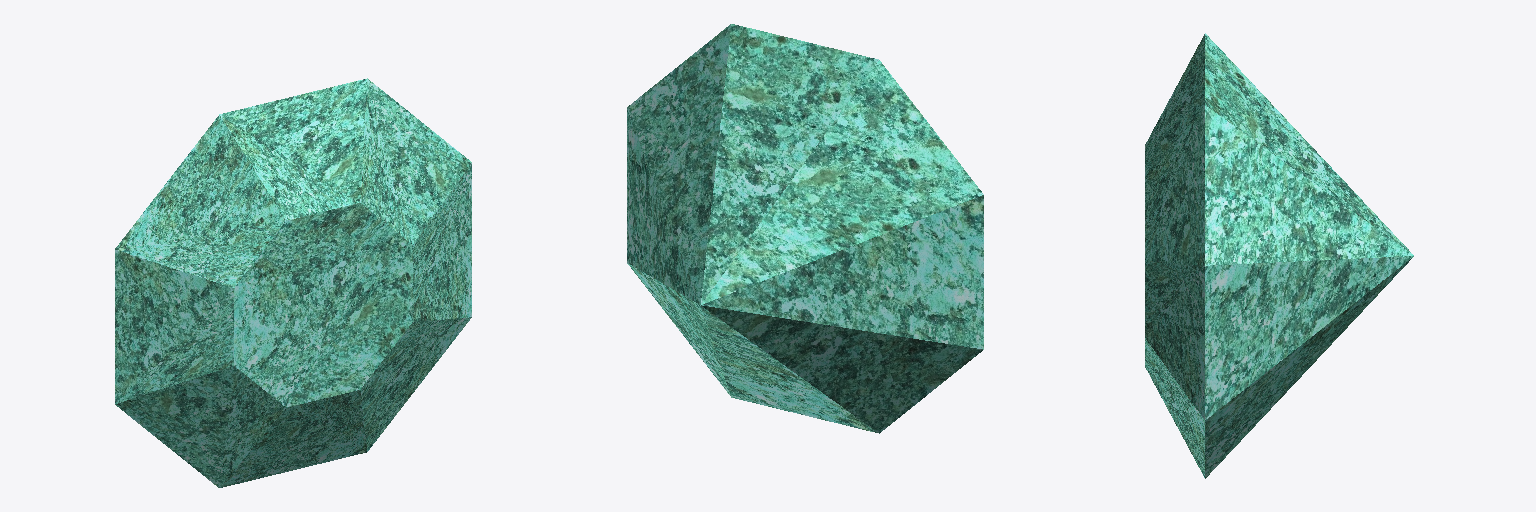
The picture shows the model from 3 angles: view 1: azimuth 30°, elevation 25°; view 2: azimuth 150°, elevation 25°; view 3: azimuth 270°, elevation 25°; orthographic projection.
Bounding box in the file's own units: 2.41 × 2.41 × 1.57.
1 materials, 1 textured.